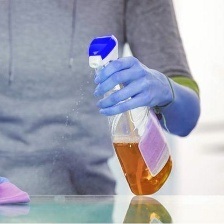cleaning_solution: (85, 30, 175, 203)
